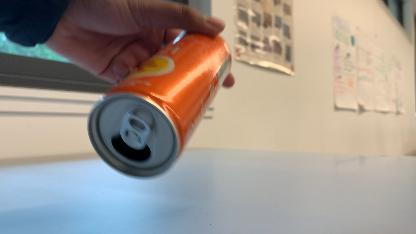Can: (87, 32, 231, 178)
